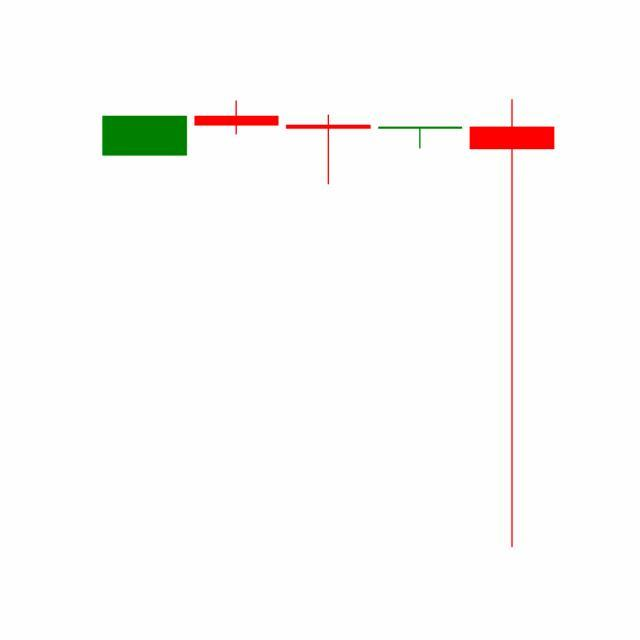Dragonfly Doji: (374, 127, 468, 150)
